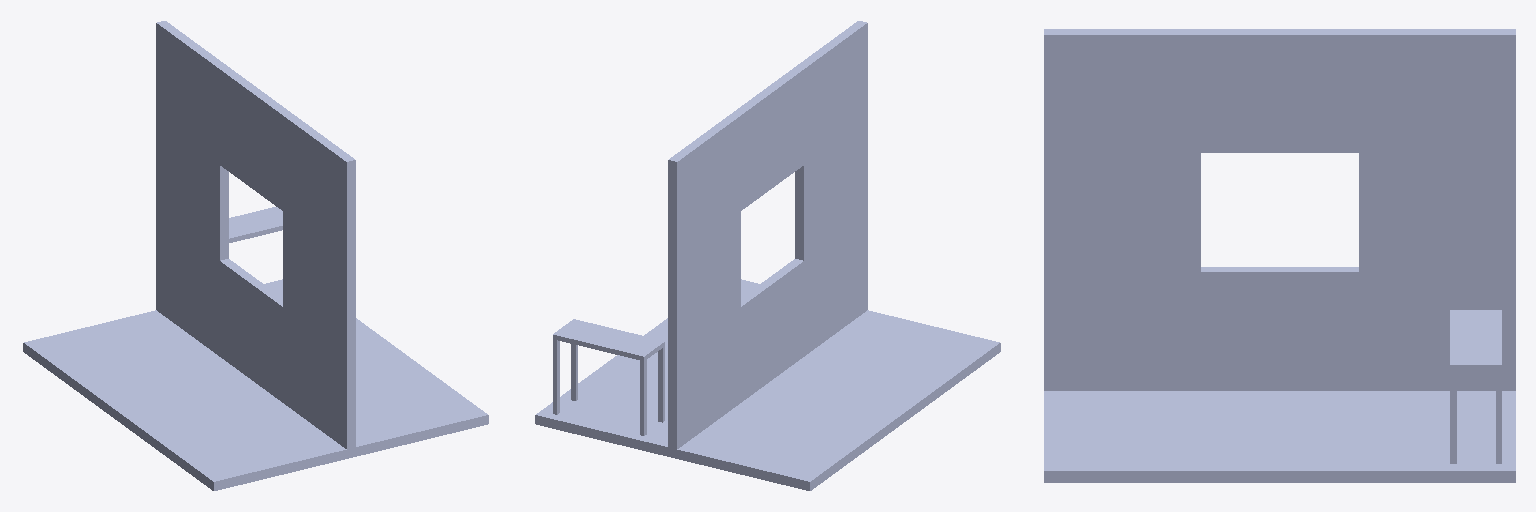
URDF robot description (cenario):
<?xml version="1.0" encoding="utf-8"?>
<!-- This URDF was automatically created by SolidWorks to URDF Exporter! Originally created by [author] ([email redacted]) 
     Commit Version: 1.5.1-0-g916b5db  Build Version: 1.5.7152.31018
     For more information, please see http://wiki.ros.org/sw_urdf_exporter -->
<robot
  name="cenario">
  <link
    name="base_link">
    <inertial>
      <origin
        xyz="1.5 1.2 1.2275390625"
        rpy="0 0 0" />
      <mass
        value="5120" />
      <inertia
        ixx="11113.6503255208"
        ixy="-4.22190754680529E-12"
        ixz="1.84866839650748E-12"
        iyy="10573.8003255208"
        iyz="3.26664927211367E-12"
        izz="11658.2833333333" />
    </inertial>
    <visual>
      <origin
        xyz="0 0 0"
        rpy="0 0 0" />
      <geometry>
        <mesh
          filename="package://uam3axis/meshes/CenarioSomenteMeio.STL" 
          scale="1 1.2 1"/>
      </geometry>
      <material
        name="">
        <color
          rgba="0.792156862745098 0.819607843137255 0.933333333333333 1" />
      </material>
    </visual>
    <collision>
      <origin
        xyz="0 0 0"
        rpy="0 0 0" />
      <geometry>
        <mesh
          filename="package://uam3axis/meshes/CenarioSomenteMeio.STL" 
          scale="1 1.2 1"/>
      </geometry>
    </collision>
  </link>
  <link
    name="table">
    <inertial>
      <origin
        xyz="2.36999999999999 3.3 0.693571428571429"
        rpy="0 0 0" />
      <mass
        value="28" />
      <inertia
        ixx="1.97630952380953"
        ixy="1.88447890105135E-14"
        ixz="-7.10935172609029E-17"
        iyy="4.93630952380953"
        iyz="-5.21170783703708E-16"
        izz="3.98666666666667" />
    </inertial>
    <visual>
      <origin
        xyz="0 0.6 -0.01"
        rpy="0 0 0" />
      <geometry>
        <mesh
          filename="package://uam3axis/meshes/table.STL" />
      </geometry>
      <material
        name="">
        <color
          rgba="0.792156862745098 0.819607843137255 0.933333333333333 1" />
      </material>
    </visual>
    <collision>
      <origin
        xyz="0 0.6 -0.01"
        rpy="0 0 0" />
      <geometry>
        <mesh
          filename="package://uam3axis/meshes/table.STL" />
      </geometry>
    </collision>
  </link>
  <joint
    name="table"
    type="fixed">
    <origin
      xyz="0 0 -0.01"
      rpy="0 0 0" />
    <parent
      link="base_link" />
    <child
      link="table" />
    <axis
      xyz="0 0 0" />
  </joint>
  <gazebo>
    <static>true</static>
  </gazebo>

  <gazebo reference="base_link">
    <material>Gazebo/BlackTransparent</material>
  </gazebo>

  <gazebo reference="table">
    <material>Gazebo/Wood</material>
  </gazebo>
</robot>

--- Render facts (derived) ---
3 views of the same robot in one strip: view 1: azimuth 30°, elevation 25°; view 2: azimuth 150°, elevation 25°; view 3: azimuth 270°, elevation 25° (orthographic).
Model cenario with 2 links and 1 joints (1 fixed), rooted at base_link, posed all joints at 0.
Links seen in each view (by area): view 1: base_link, table; view 2: base_link, table; view 3: base_link, table.
Link boxes in pixels (<box>): base_link: <box>23,21,488,490</box>; table: <box>229,207,282,242</box>; base_link: <box>535,21,1000,490</box>; table: <box>553,319,664,435</box>; base_link: <box>1044,29,1515,482</box>; table: <box>1450,310,1501,463</box>.
Bounding box of the posed robot: 3 × 3.6 × 3.1 m (x, y, z).
Meshes: 2 distinct files referenced, 2 mesh visuals loaded (2 binary STL).